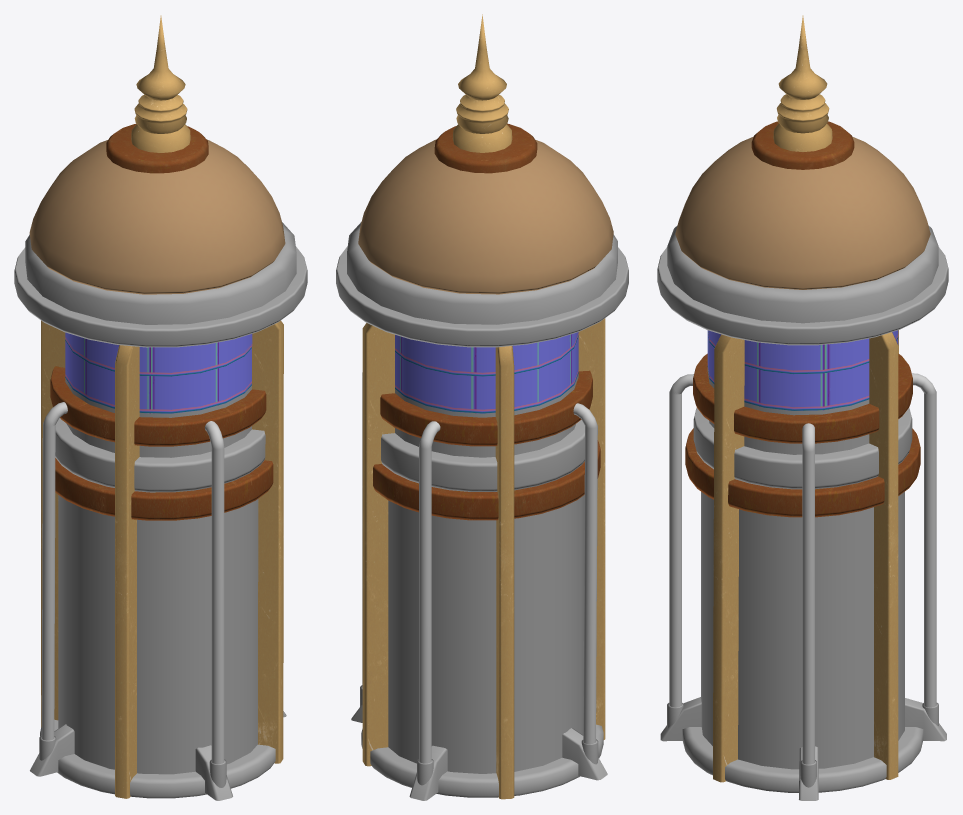
Rendered from Tower_04b.fbx.
The picture shows the model from 3 angles, left to right: view 1: azimuth 30°, elevation 25°; view 2: azimuth 150°, elevation 25°; view 3: azimuth 270°, elevation 25°; orthographic projection.
Visible parts, largest first — view 1: Tower_04b; view 2: Tower_04b; view 3: Tower_04b.
Part boxes in pixels (x1=…): Tower_04b: x1=14, y1=15, x2=307, y2=800; Tower_04b: x1=336, y1=14, x2=628, y2=800; Tower_04b: x1=657, y1=15, x2=948, y2=800.
Bounding box in the file's own units: 185 × 515 × 186.
